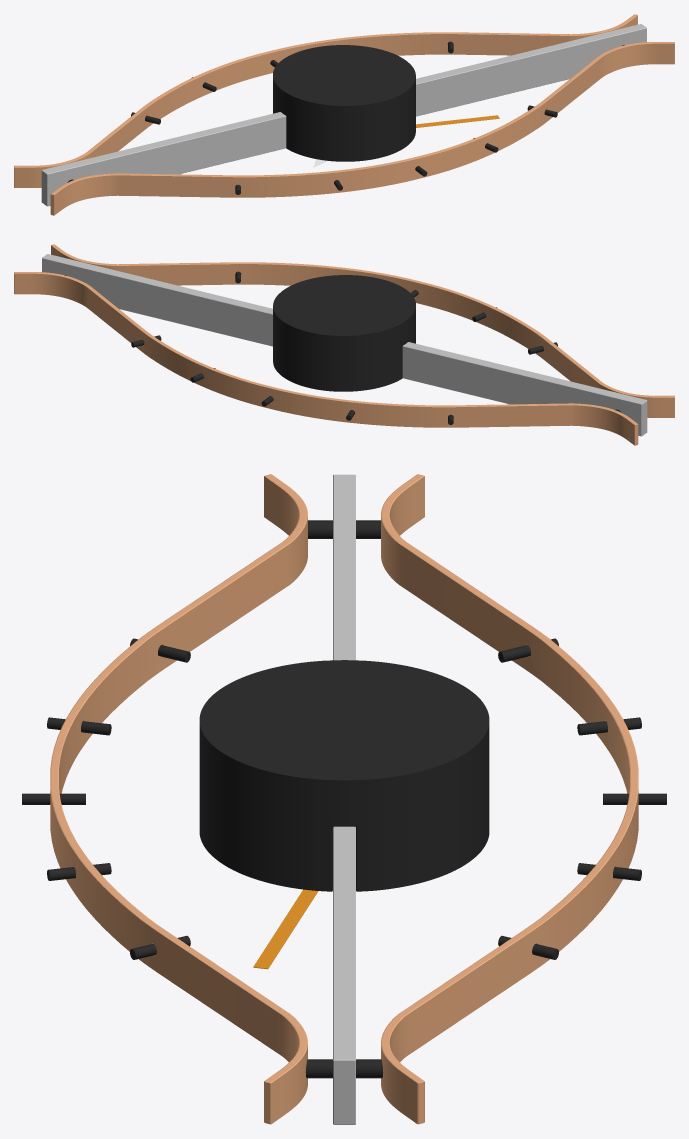
Rendered from eyeclock.obj.
The picture shows the model from 3 angles, top to bottom: view 1: azimuth 30°, elevation 25°; view 2: azimuth 150°, elevation 25°; view 3: azimuth 270°, elevation 25°; orthographic projection. The views are drawn at different scales.
Visible parts, largest first — view 1: Vitra_Eye_Clock; view 2: Vitra_Eye_Clock; view 3: Vitra_Eye_Clock.
Boxes of the visible parts, <box> form: Vitra_Eye_Clock: <box>14,14,674,215</box>; Vitra_Eye_Clock: <box>14,244,674,445</box>; Vitra_Eye_Clock: <box>22,474,666,1124</box>.
Bounding box in the file's own units: 76 × 7 × 34.
